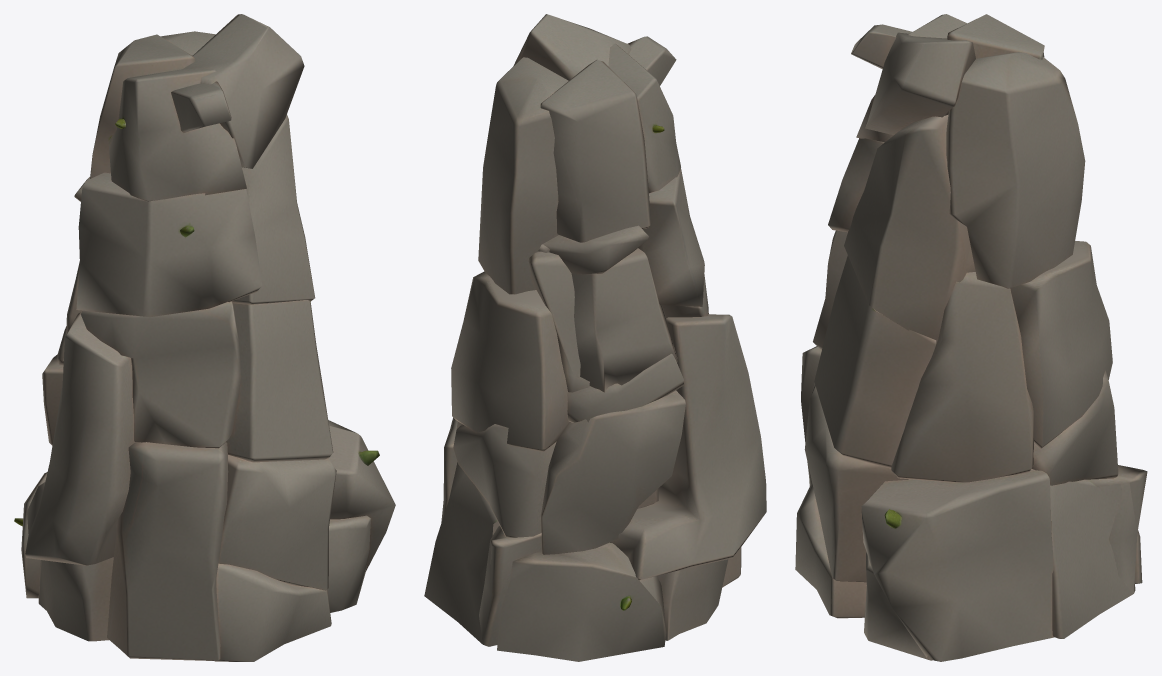
File: rock-cliff.glb
The picture shows the model from 3 angles, left to right: view 1: azimuth 30°, elevation 25°; view 2: azimuth 150°, elevation 25°; view 3: azimuth 270°, elevation 25°; orthographic projection. The views are drawn at different scales.
Size of the model in its own units: 0.5933 by 1 by 0.5611.
1 material, 1 textured.
